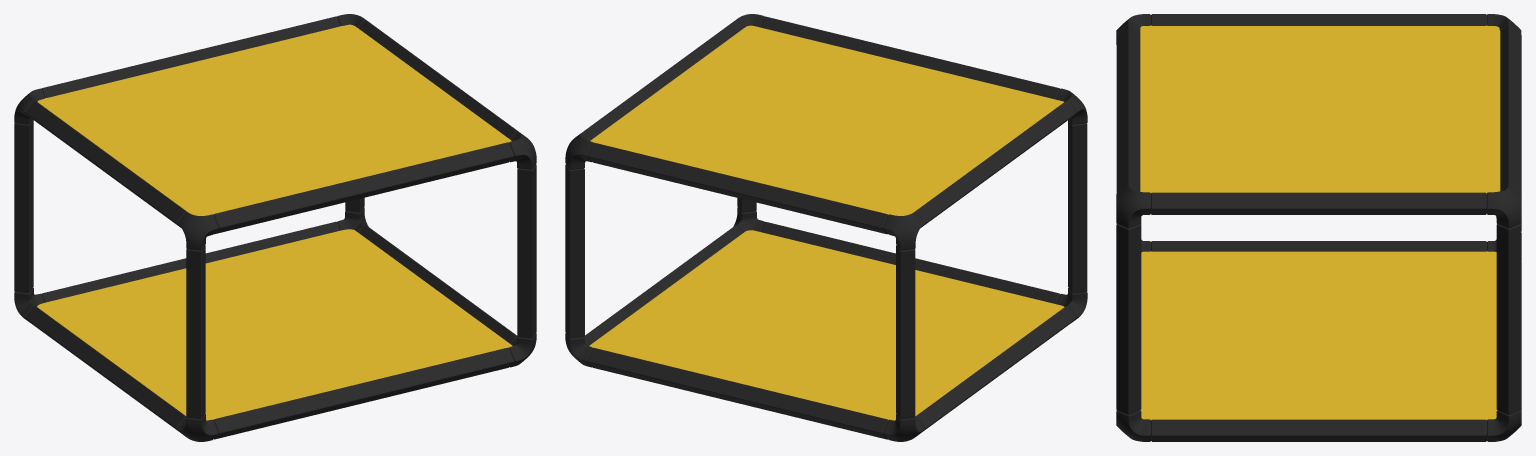
3 views of the same model, side by side, from view 1: azimuth 30°, elevation 25°; view 2: azimuth 150°, elevation 25°; view 3: azimuth 270°, elevation 25° (orthographic). The views are drawn at different scales.
Parts seen in each view (by area): view 1: 420x374x229; view 2: 420x374x229; view 3: 420x374x229.
Part boxes in pixels (<box>): 420x374x229: <box>14,14,536,441</box>; 420x374x229: <box>565,14,1087,441</box>; 420x374x229: <box>1116,14,1521,441</box>.
Size of the model in its own units: 0.4977 by 0.3066 by 0.4513.
